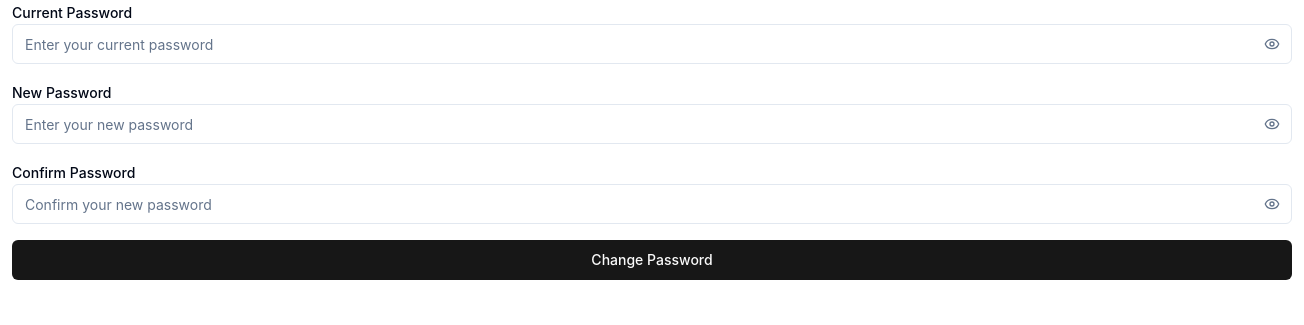
PasswordChangeForm › checks the confirmation again when the new password is corrected to match it
Type "brand-new-passwor" into the password field labelled "New Password" at (652, 124), box [12,104,1292,144]
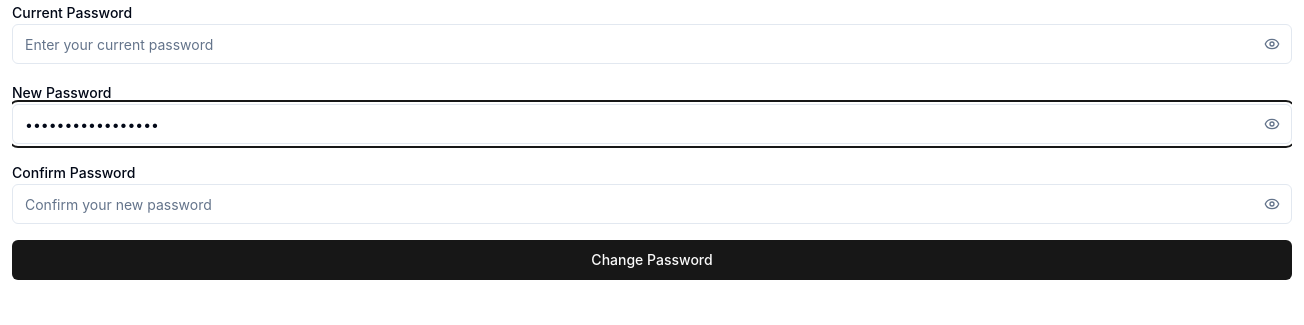
Type "brand-new-password" into the password field labelled "Confirm Password" at (652, 204), box [12,184,1292,224]
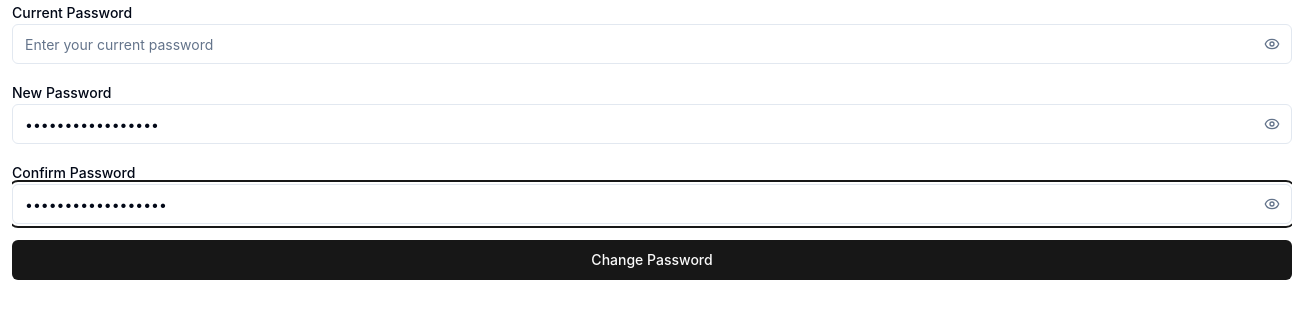
Press Tab
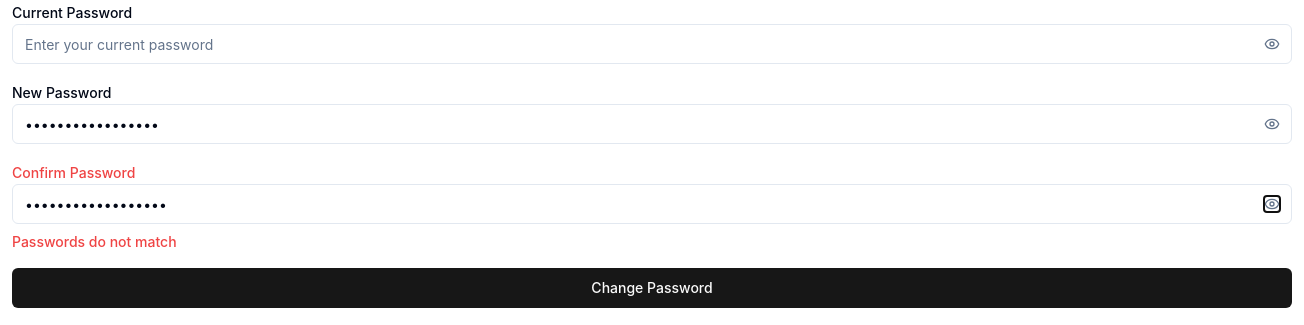
Expected: the text "Passwords do not match" is shown, [12,233,177,250]
Type "d" into the password field labelled "New Password" at (652, 124), box [12,104,1292,144]
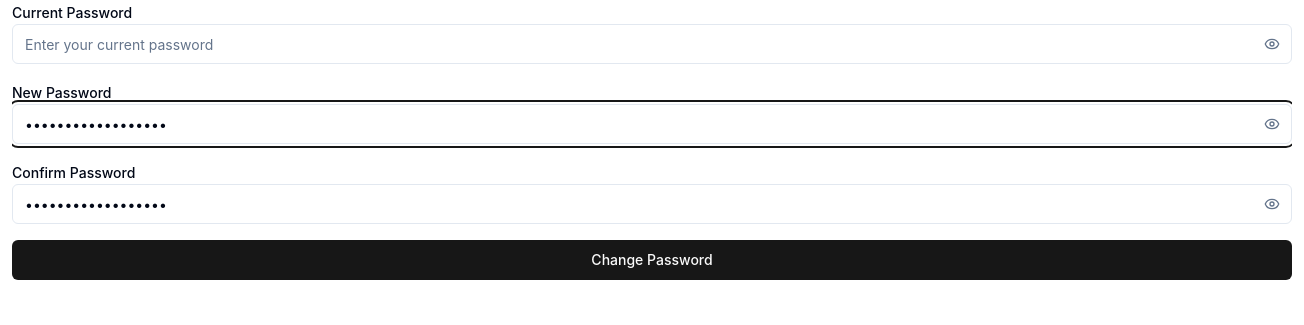
Expected: the text "Passwords do not match" is gone
